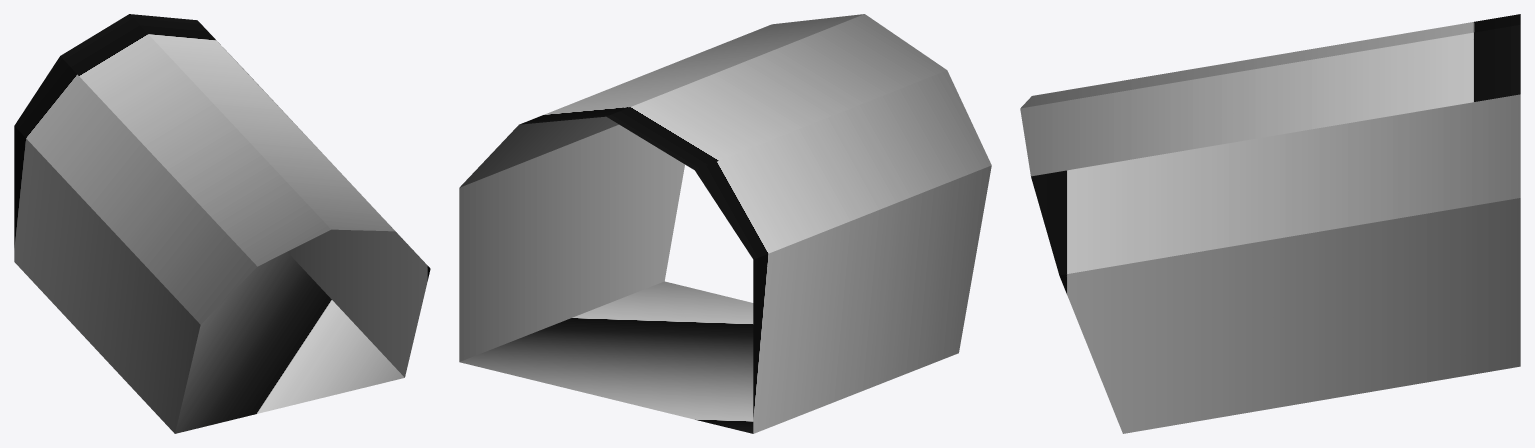
The model's file is BedroomWindowBeams.fbx.
3 renders of one model, left to right at view 1: azimuth 30°, elevation 25°; view 2: azimuth 150°, elevation 25°; view 3: azimuth 270°, elevation 25°, orthographic. The views are drawn at different scales.
Visible parts, largest first — view 1: BedroomWindowBeams; view 2: BedroomWindowBeams; view 3: BedroomWindowBeams.
Part boxes in pixels (box(x1,y1,x2,y2)): BedroomWindowBeams: box(14, 14, 430, 433); BedroomWindowBeams: box(459, 14, 991, 433); BedroomWindowBeams: box(1020, 14, 1520, 433).
Bounding box in the file's own units: 168 × 192 × 256.
